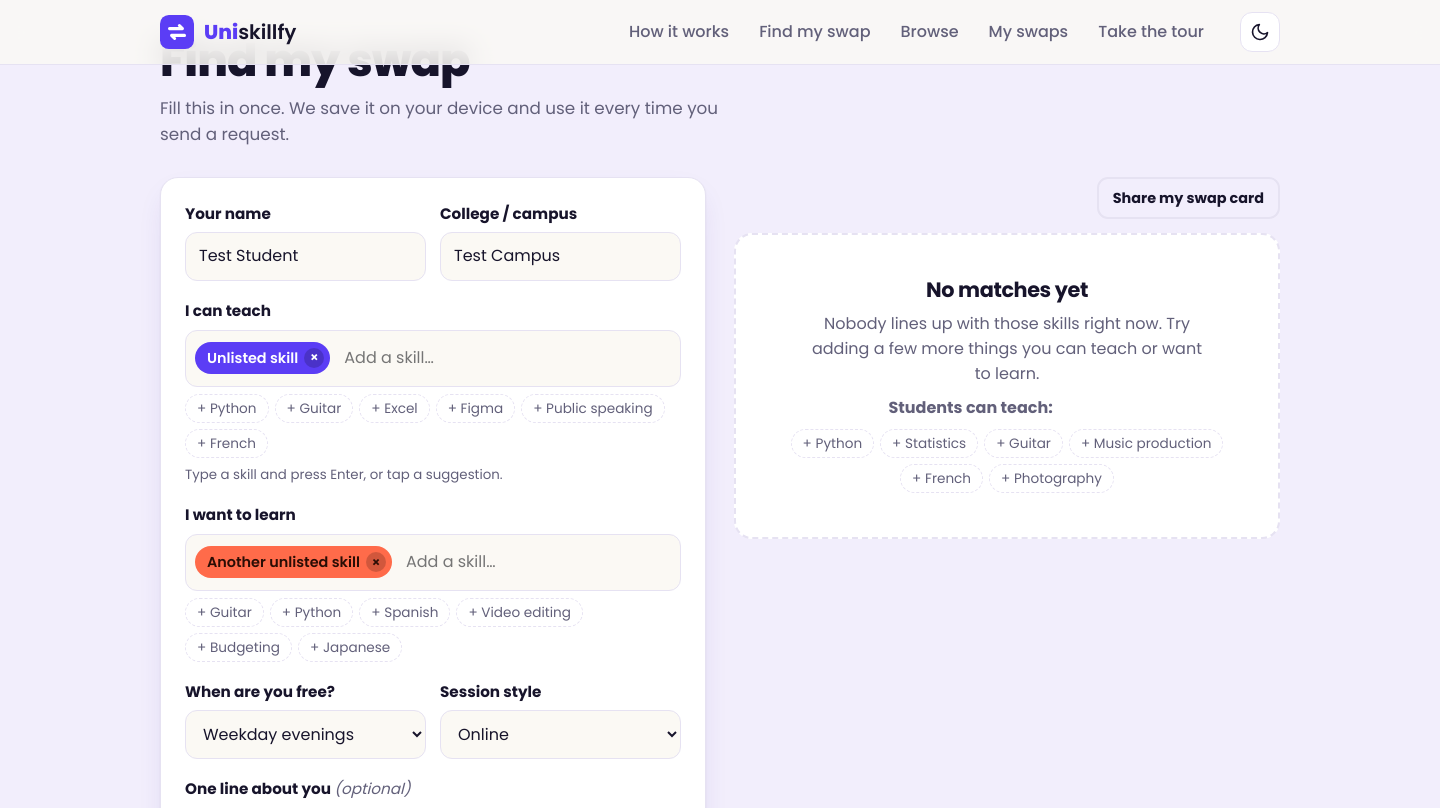
Test case: app flow › suggests teachable skills when no matches are found and reruns matching
(page scrolled)
Check: the heading "No matches yet" is shown, box [926,279,1088,302]
Click the button "+ Python" below "Students can teach:": (832, 444) [791,429,874,458]
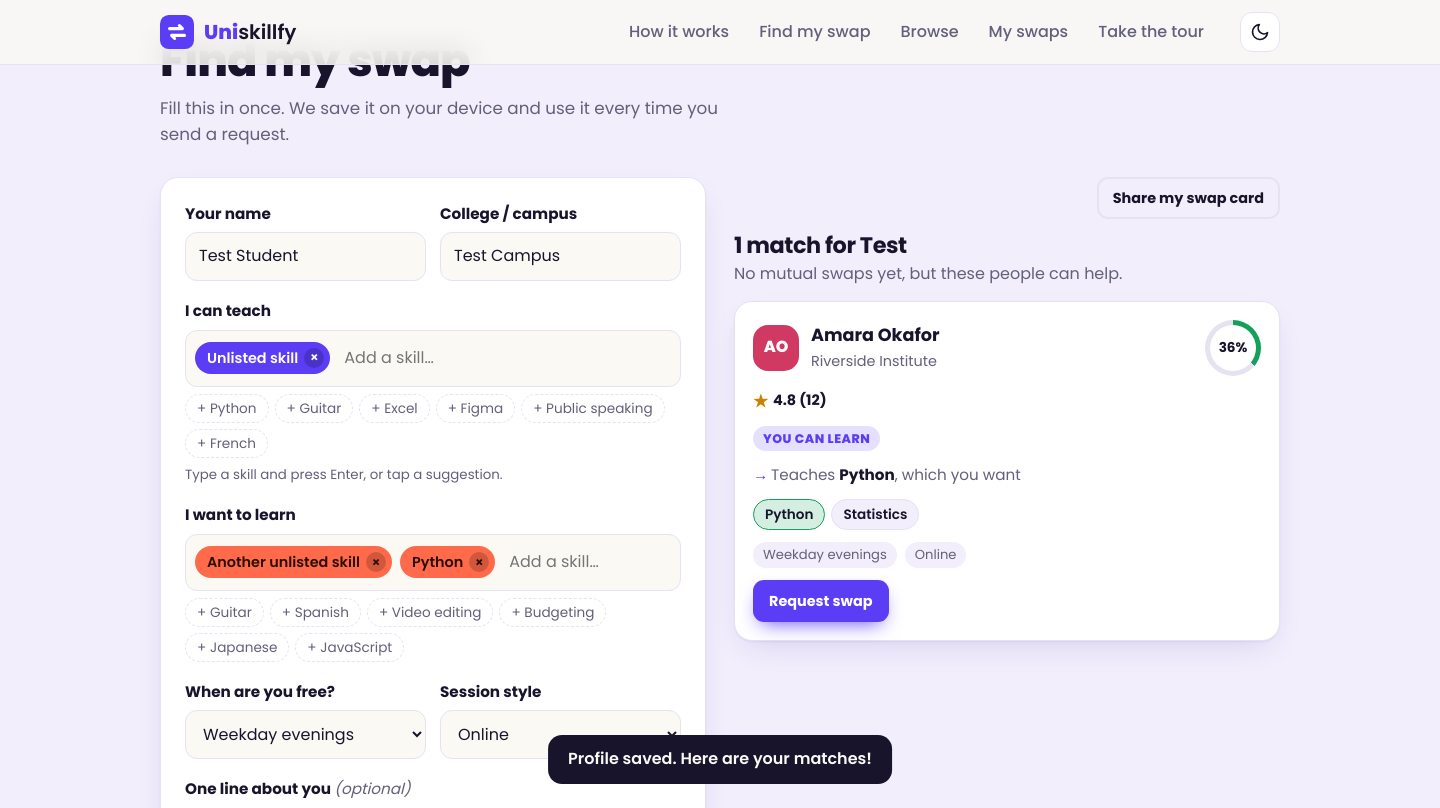
Check: the heading "No matches yet" is gone
Check: the heading "1 match for Test" is shown, box [734,229,907,261]
